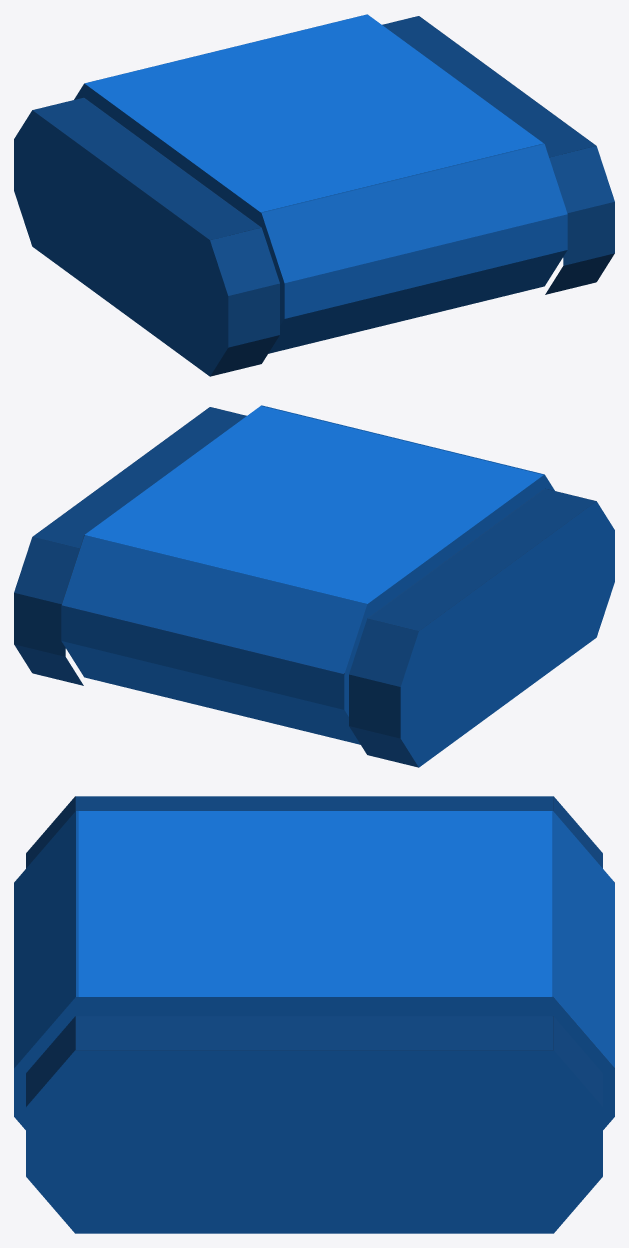
File: tank_base.dae
3 renders of one model, top to bottom at view 1: azimuth 30°, elevation 25°; view 2: azimuth 150°, elevation 25°; view 3: azimuth 270°, elevation 25°, orthographic. The views are drawn at different scales.
Parts seen in each view (by area): view 1: Main, Tracks; view 2: Main, Tracks; view 3: Tracks, Main.
Boxes of the visible parts, x1,y1,x2,y2 form: Main: (74,14,567,353); Tracks: (14,16,614,376); Main: (61,405,554,744); Tracks: (14,407,614,767); Tracks: (26,796,602,1233); Main: (14,811,614,1129).
Size of the model in its own units: 0.7 by 0.7 by 0.2608.
2 materials, 2 textured.
